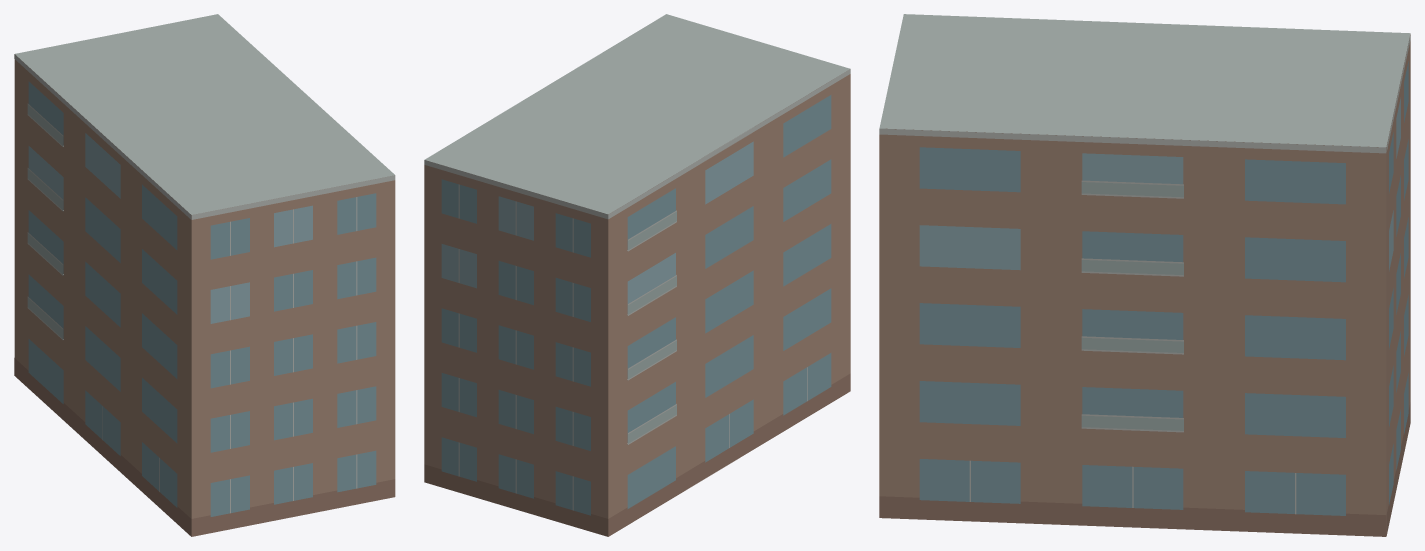
File: survey-upis-32525676.glb
3 views of the same model, side by side, from view 1: azimuth 30°, elevation 25°; view 2: azimuth 150°, elevation 25°; view 3: azimuth 270°, elevation 25° (orthographic). The views are drawn at different scales.
Visible parts, largest first — view 1: survey-upis-32525676.tmp; view 2: survey-upis-32525676.tmp; view 3: survey-upis-32525676.tmp.
Part boxes in pixels (x1,y1,x2,y2): survey-upis-32525676.tmp: (14,14,395,536); survey-upis-32525676.tmp: (424,14,850,536); survey-upis-32525676.tmp: (879,14,1410,536).
Size of the model in its own units: 11.62 by 15.8 by 19.54.
